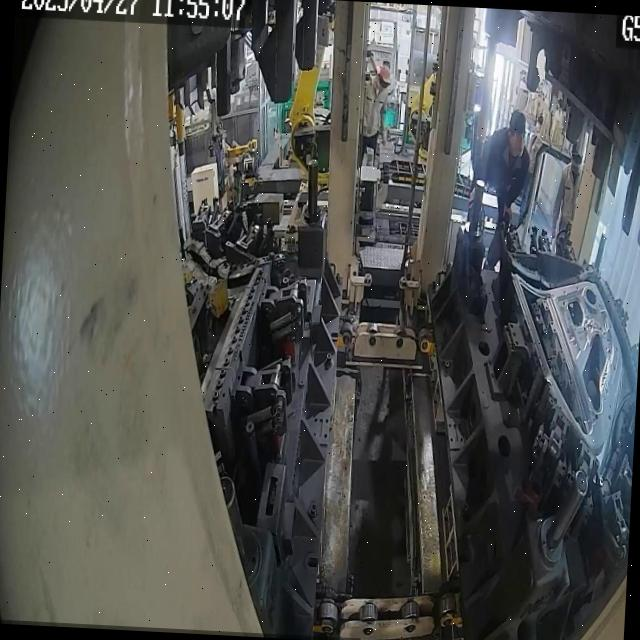Person: (463, 106, 532, 274), (549, 144, 583, 260), (360, 60, 392, 166)
